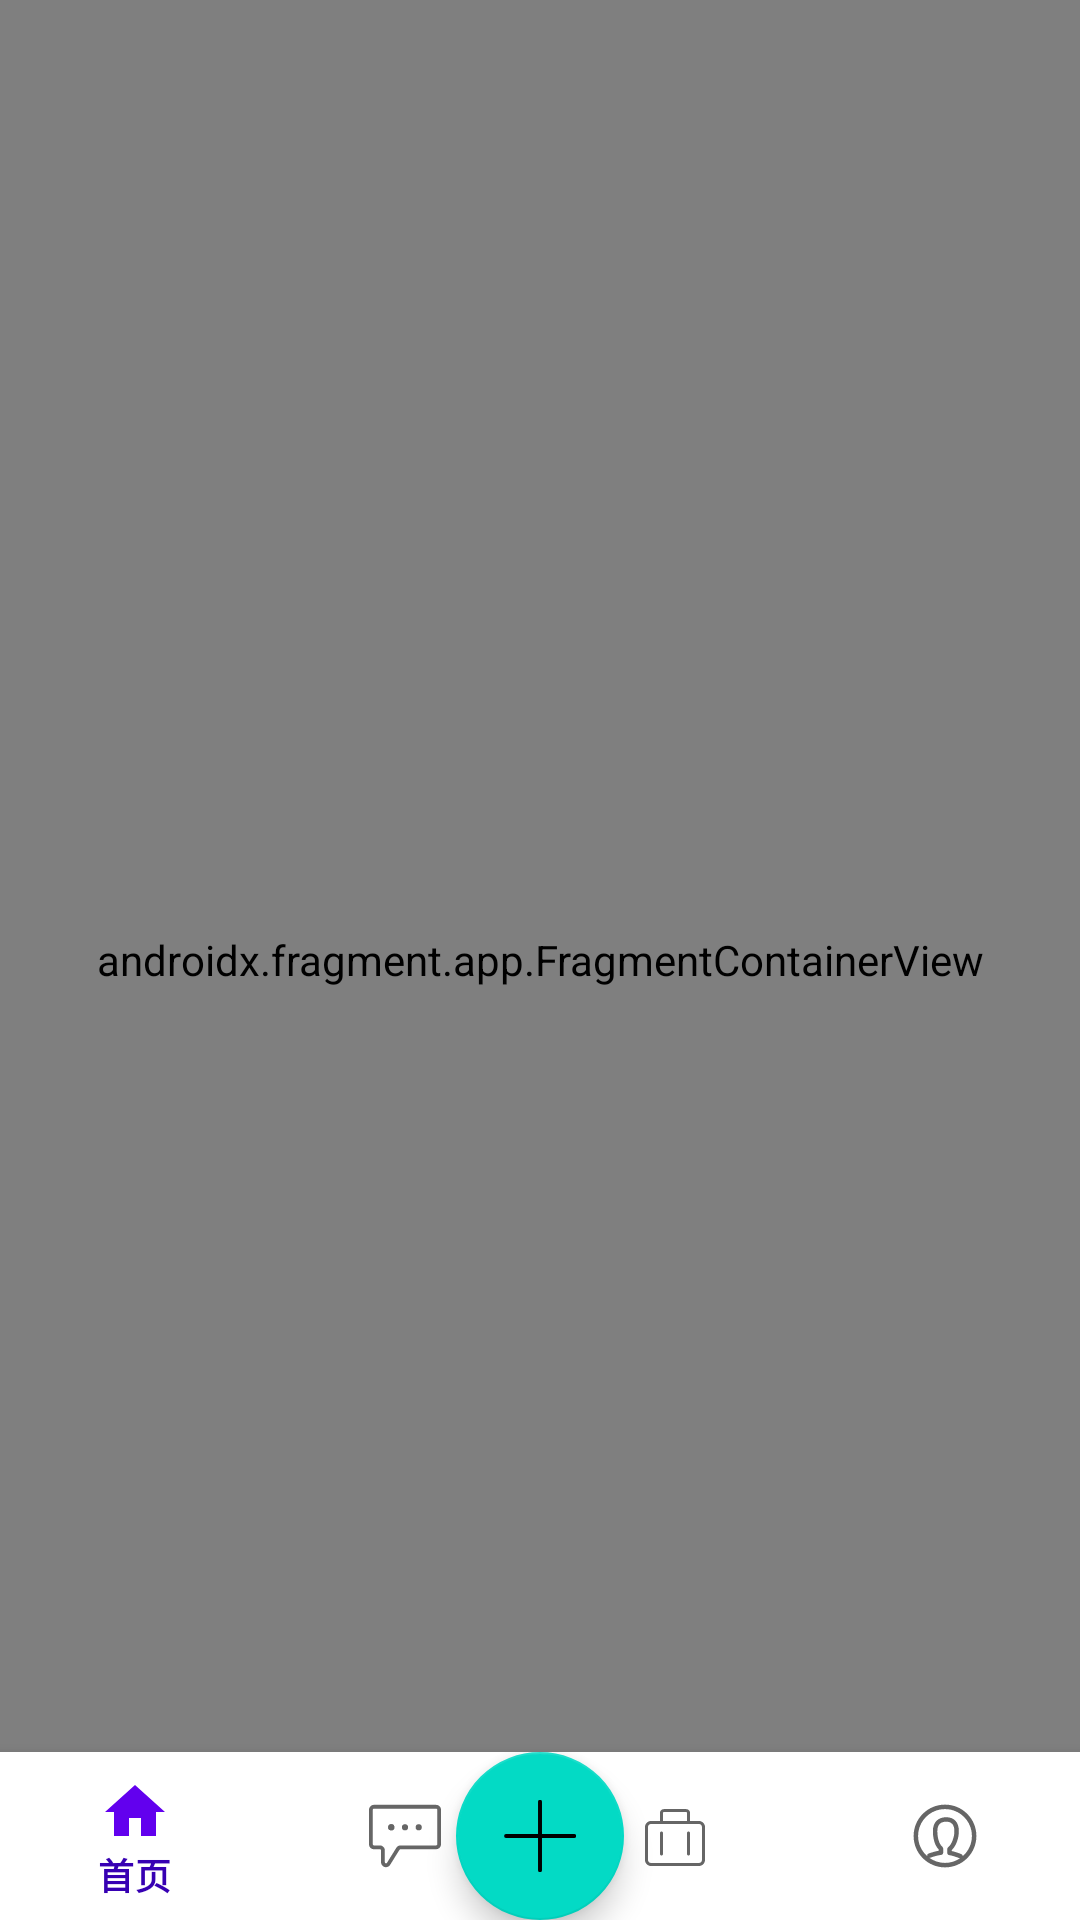

Screen size 1080x1920. Icon name, then its center in pixels as [x,y]:
Add: [540,1836]
